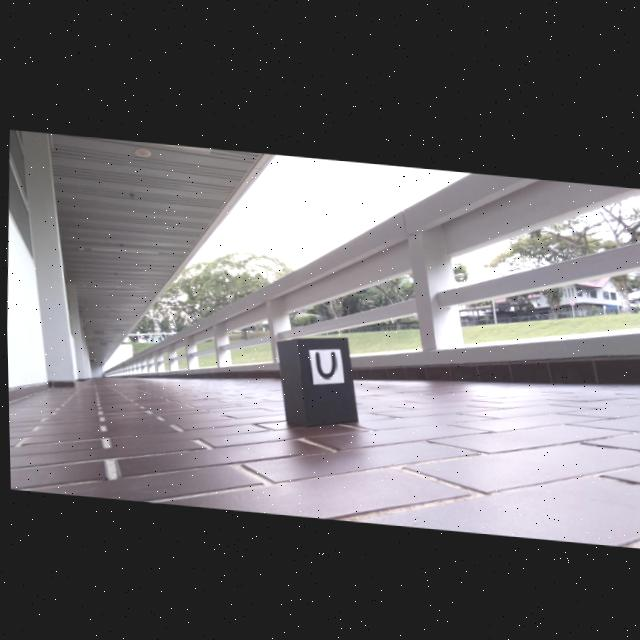U: (314, 348, 334, 374)
